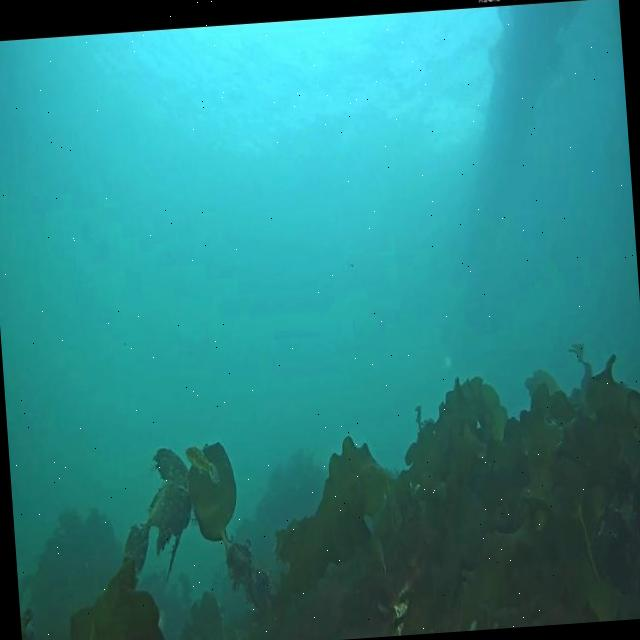fish: (184, 444, 219, 484)
